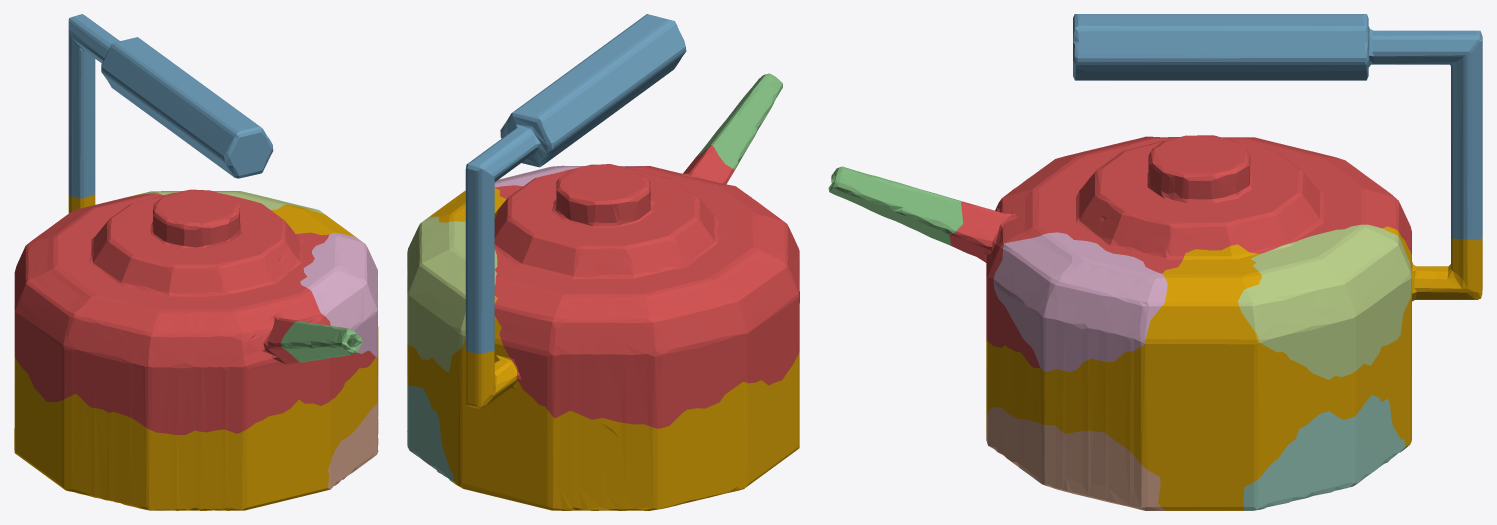
File: mode_17_8pcs.glb
3 views of the same model, side by side, from view 1: azimuth 30°, elevation 25°; view 2: azimuth 150°, elevation 25°; view 3: azimuth 270°, elevation 25° (orthographic). The views are drawn at different scales.
Visible parts, largest first — view 1: piece_1.obj, piece_0.obj, piece_2.obj, piece_6.obj, piece_3.obj, piece_7.obj, piece_5.obj; view 2: piece_1.obj, piece_0.obj, piece_2.obj, piece_5.obj, piece_3.obj, piece_4.obj, piece_6.obj; view 3: piece_0.obj, piece_1.obj, piece_2.obj, piece_5.obj, piece_6.obj, piece_7.obj, piece_4.obj, piece_3.obj.
Part boxes in pixels (x1=…): piece_1.obj: x1=14, y1=189, x2=375, y2=434; piece_0.obj: x1=14, y1=194, x2=378, y2=510; piece_2.obj: x1=68, y1=14, x2=273, y2=198; piece_6.obj: x1=300, y1=232, x2=377, y2=356; piece_3.obj: x1=280, y1=321, x2=362, y2=362; piece_7.obj: x1=327, y1=375, x2=378, y2=490; piece_5.obj: x1=140, y1=191, x2=324, y2=214; piece_1.obj: x1=494, y1=145, x2=799, y2=428; piece_0.obj: x1=407, y1=188, x2=799, y2=510; piece_2.obj: x1=465, y1=14, x2=686, y2=353; piece_5.obj: x1=407, y1=216, x2=497, y2=371; piece_3.obj: x1=696, y1=73, x2=782, y2=169; piece_4.obj: x1=407, y1=385, x2=454, y2=483; piece_6.obj: x1=463, y1=165, x2=645, y2=192; piece_0.obj: x1=986, y1=226, x2=1482, y2=510; piece_1.obj: x1=949, y1=135, x2=1412, y2=367; piece_2.obj: x1=1073, y1=14, x2=1482, y2=240; piece_5.obj: x1=1238, y1=224, x2=1411, y2=379; piece_6.obj: x1=993, y1=232, x2=1167, y2=372; piece_7.obj: x1=986, y1=407, x2=1166, y2=510; piece_4.obj: x1=1243, y1=394, x2=1405, y2=510; piece_3.obj: x1=828, y1=166, x2=963, y2=245.
Size of the model in its own units: 0.6508 by 0.6799 by 1.
